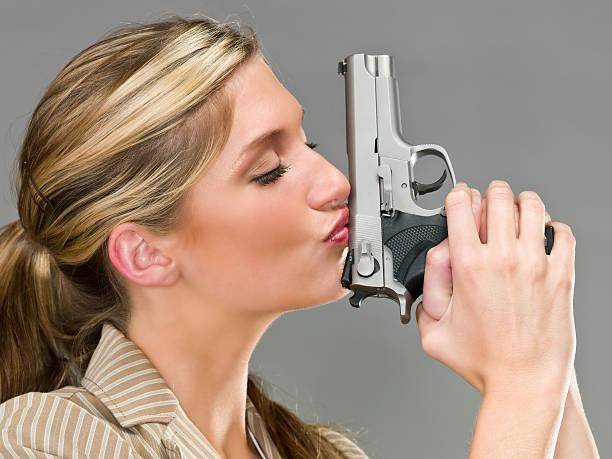weapon: (334, 45, 564, 318)
